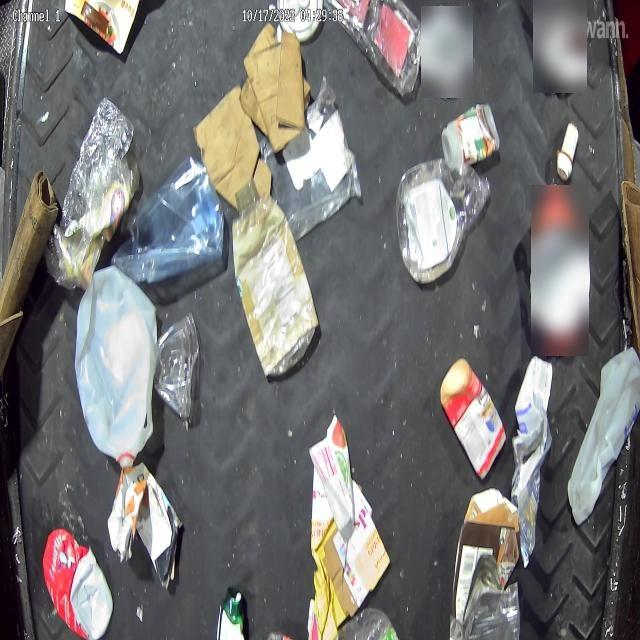milk_jug: (77, 264, 157, 470), (569, 350, 640, 520)
plastic_bottle: (397, 157, 493, 286)
